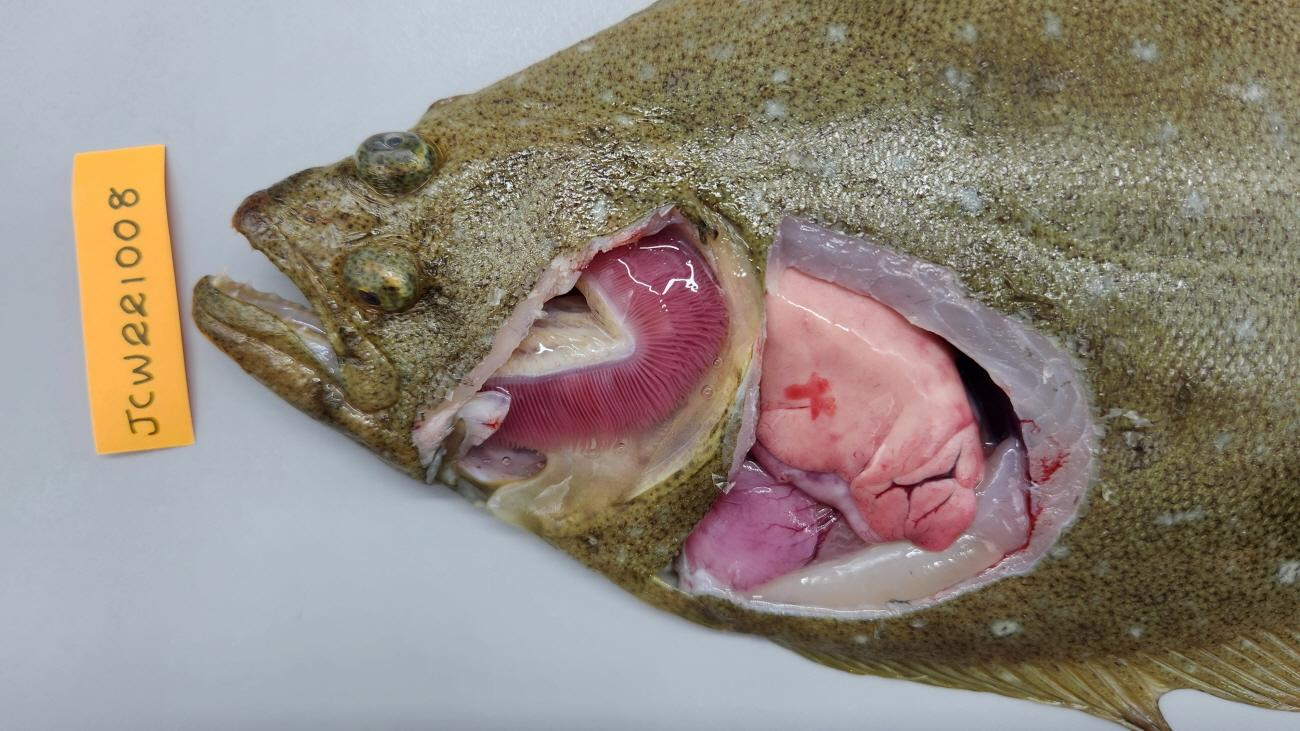POGIN: (477, 225, 731, 451)
POLIN: (755, 267, 983, 554)
